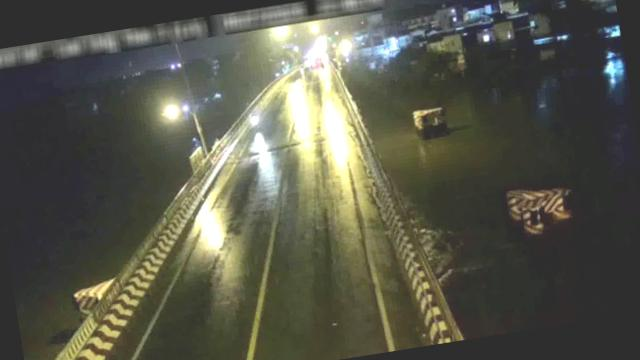Bike: (250, 112, 260, 127)
